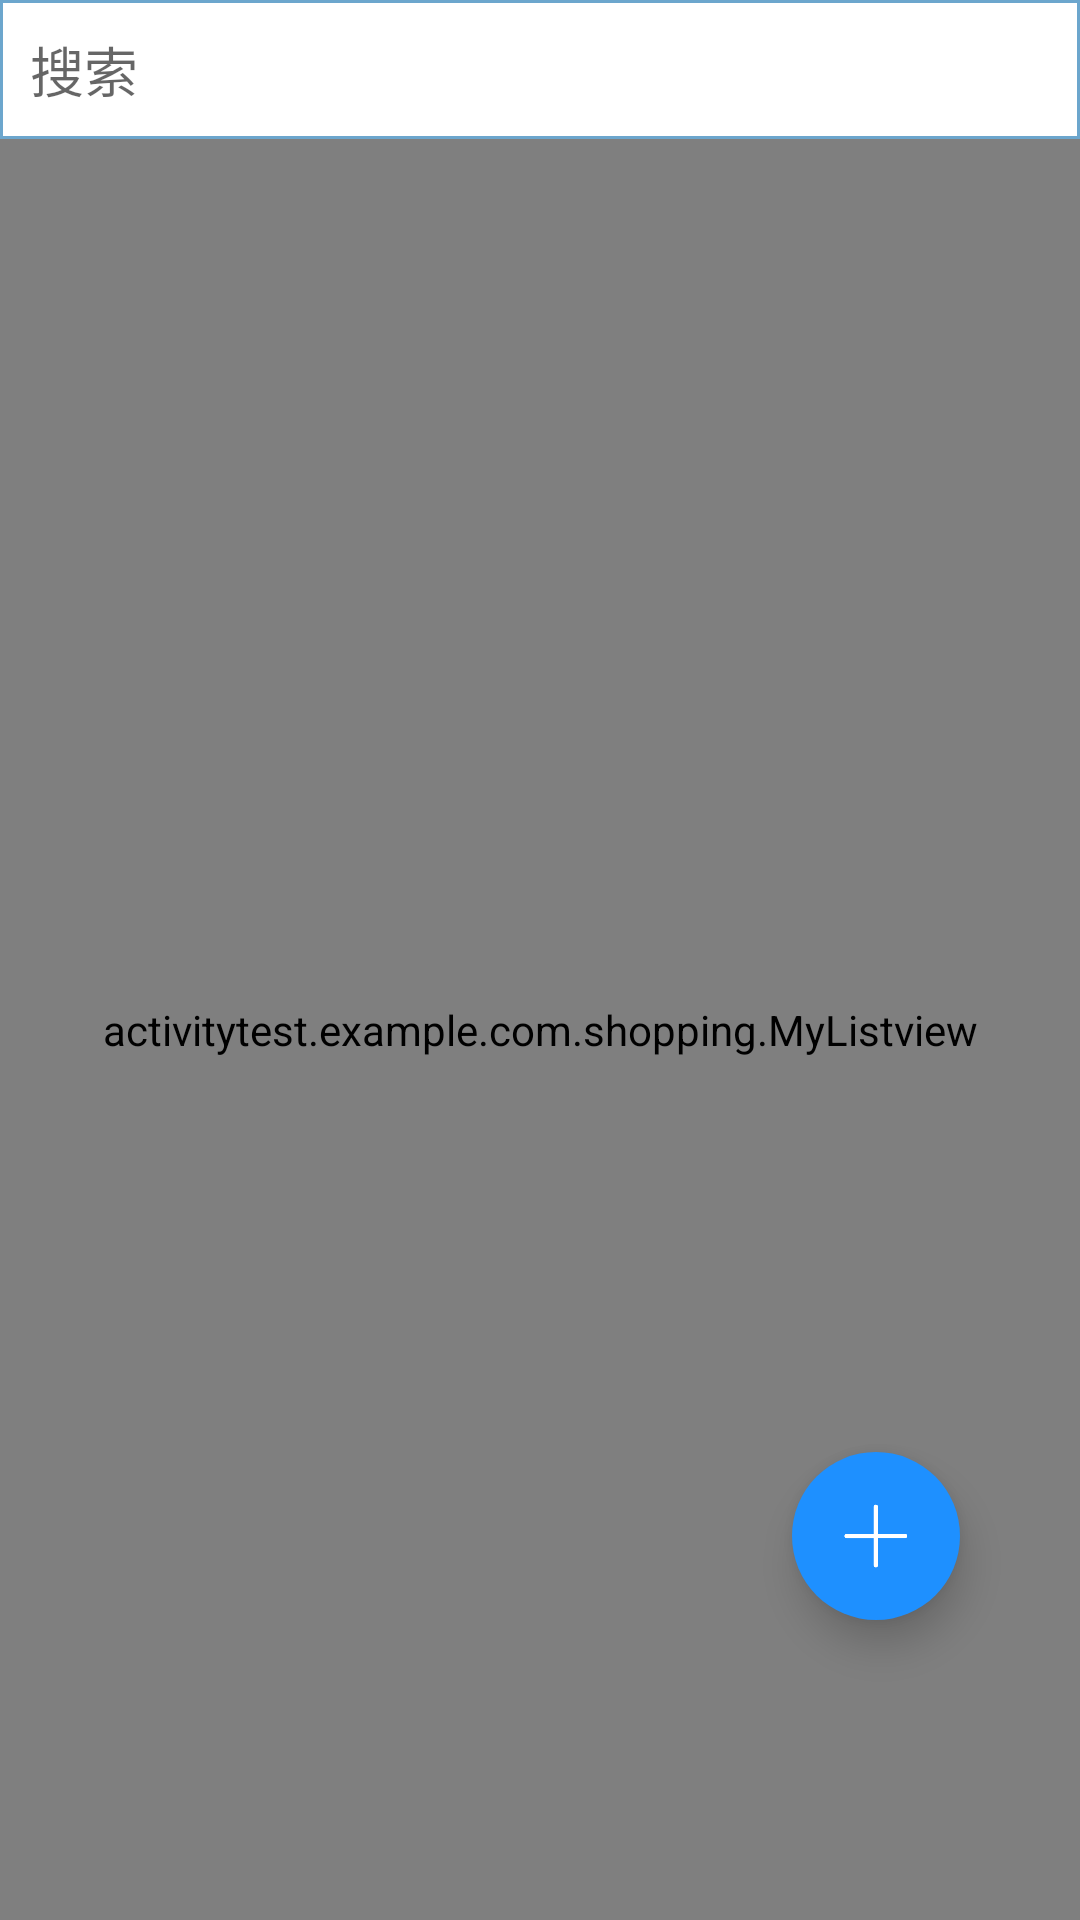

Screen size 1080x1920. Icon name, then its center in pixels as point (x, y):
plus: point (876, 1536)
